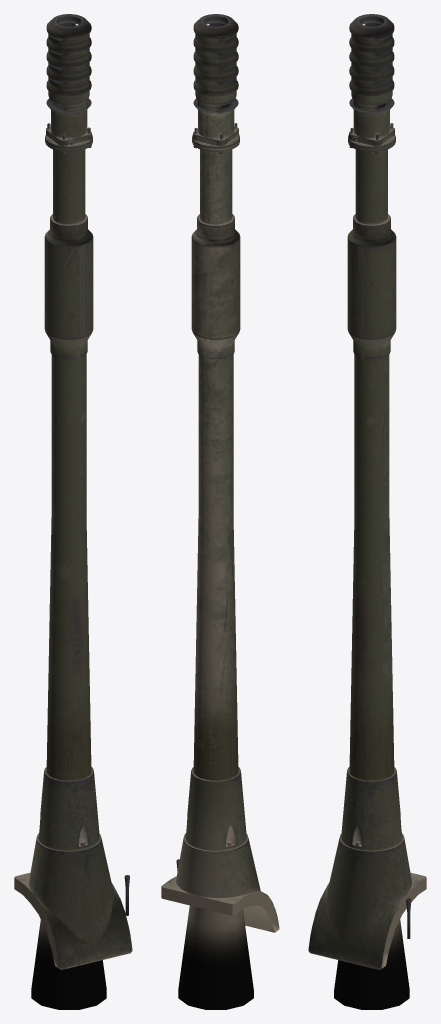
The model's file is Gun_01.glb.
3 renders of one model, left to right at view 1: azimuth 30°, elevation 25°; view 2: azimuth 150°, elevation 25°; view 3: azimuth 330°, elevation 25°, orthographic.
Parts seen in each view (by area): view 1: set_0_group_0; view 2: set_0_group_0; view 3: set_0_group_0.
Boxes of the visible parts, x1=… form: set_0_group_0: x1=14, y1=14, x2=132, y2=1009; set_0_group_0: x1=161, y1=14, x2=279, y2=1009; set_0_group_0: x1=308, y1=14, x2=426, y2=1009.
Size of the model in its own units: 0.5125 by 5.5 by 0.4723.
Materials: 1 (1 with a texture image).
